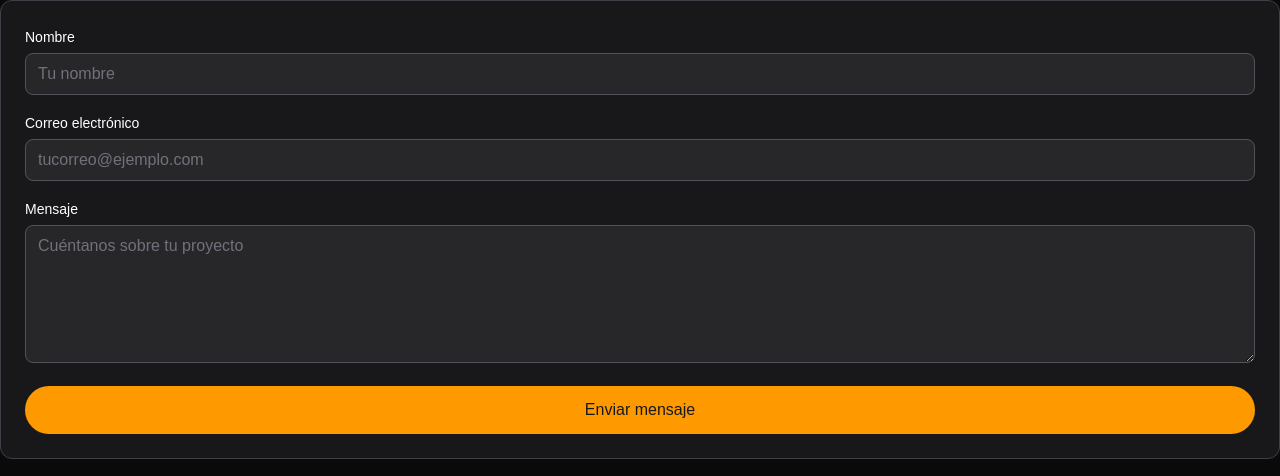
it: ContactForm (US12) › el botón muestra 'Enviando…' mientras se envía
The image size is (1280, 476).
Type "Ana Torres" into the field labelled "Nombre" at (640, 74), box [25, 53, 1255, 95]
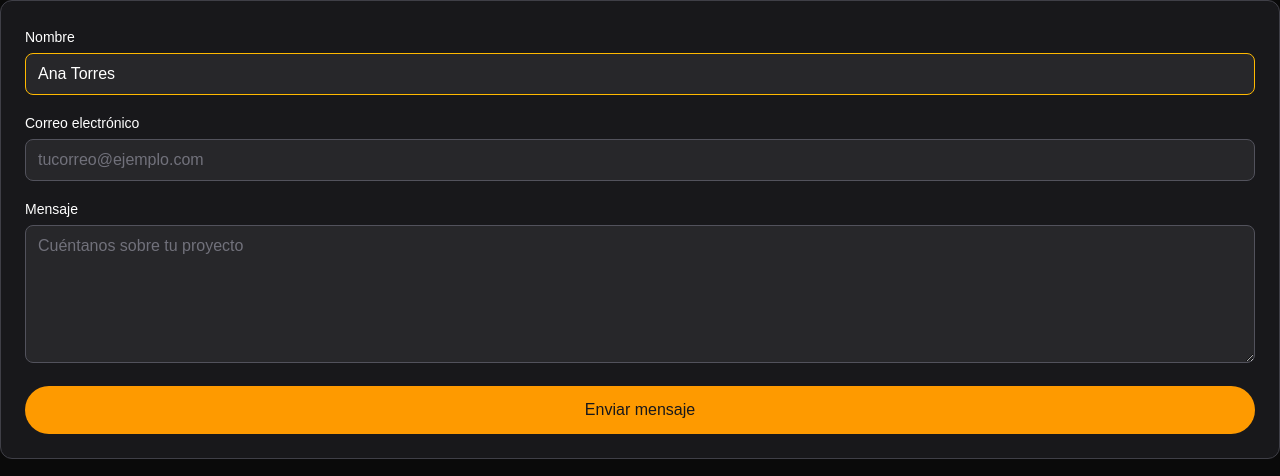
Type "ana@ejemplo.com" into the field labelled "Correo electrónico" at (640, 160), box [25, 139, 1255, 181]
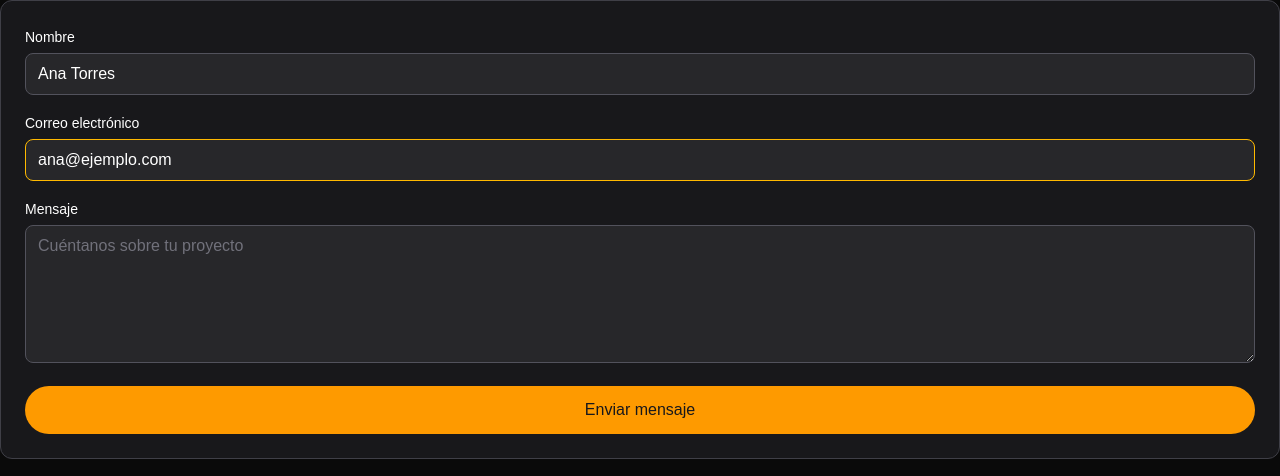
Type "Quiero un presupuesto" into the text box labelled "Mensaje" at (640, 294), box [25, 225, 1255, 363]
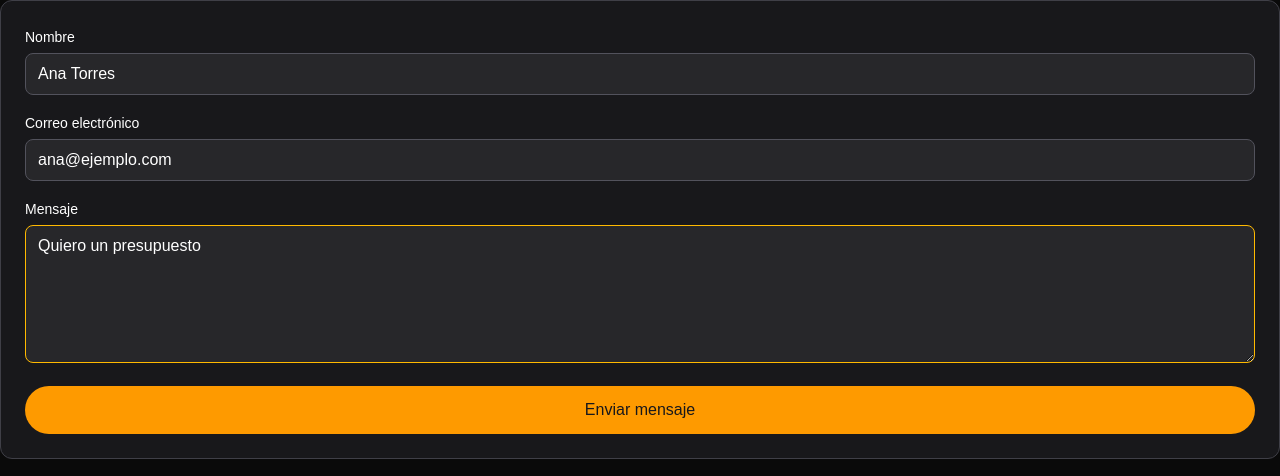
Click the button "Enviar mensaje" at (640, 410), box [25, 386, 1255, 434]
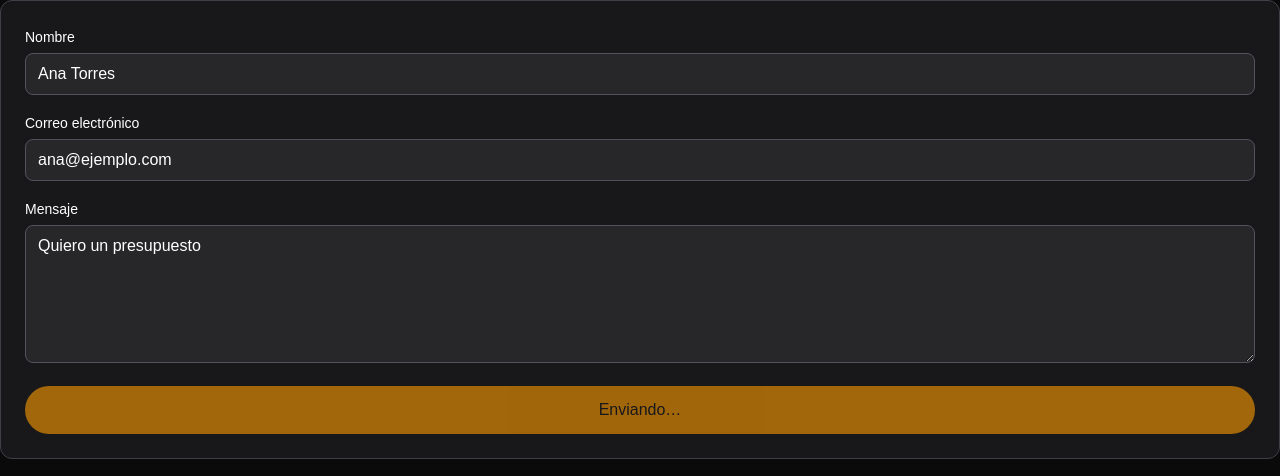
Expected: the button "Enviando…" is shown, [25, 386, 1255, 434]
